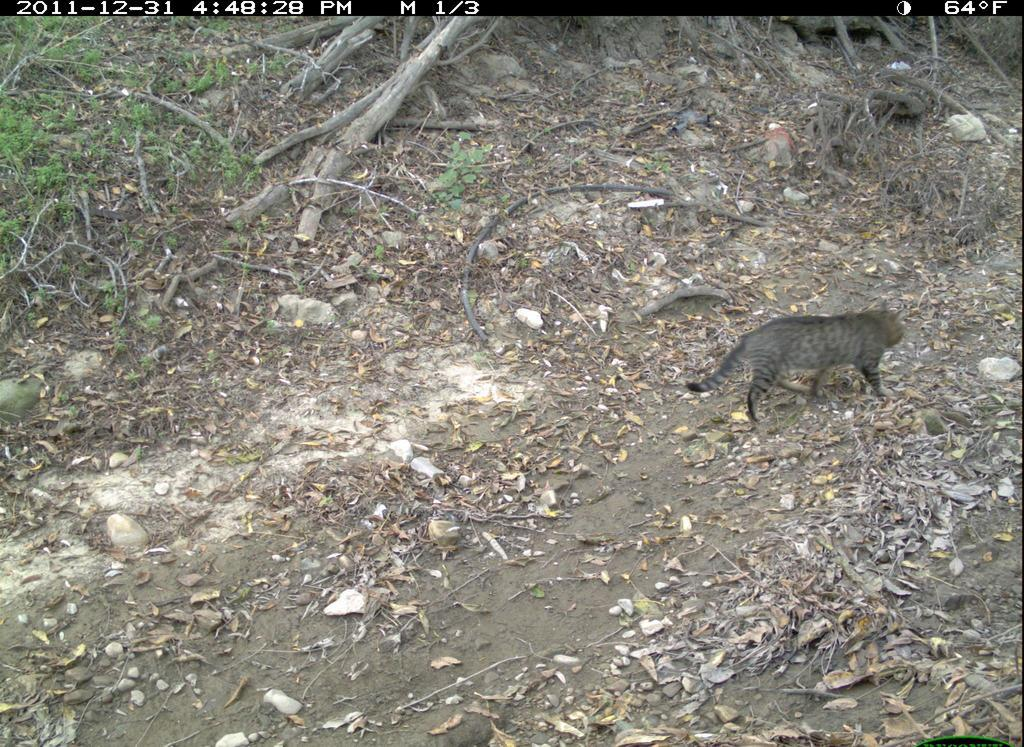cat: (678, 300, 914, 437)
